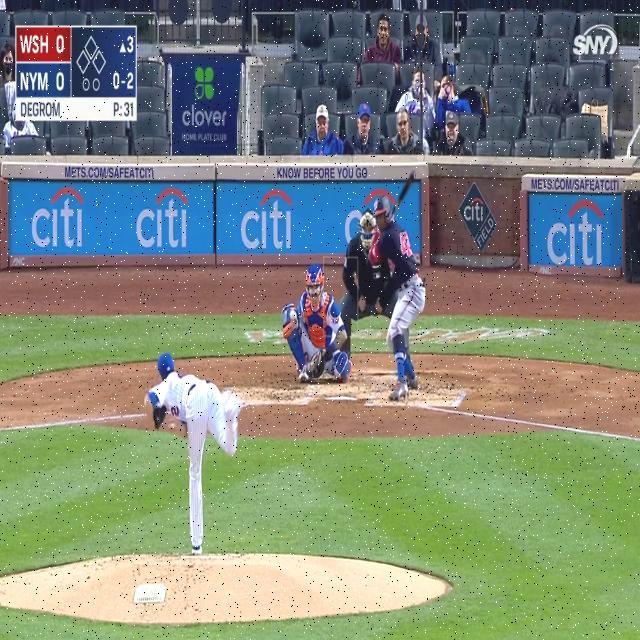baseball: (290, 310, 296, 320)
